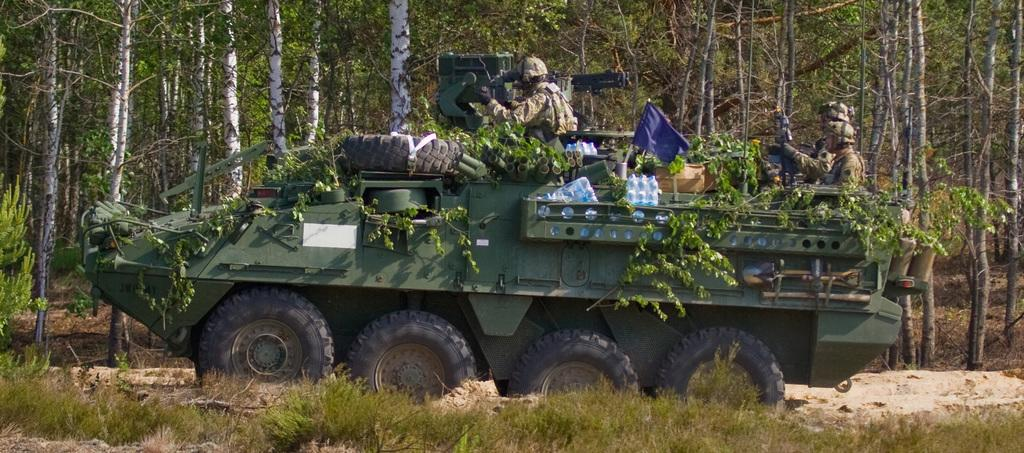Tank: (79, 51, 930, 416)
